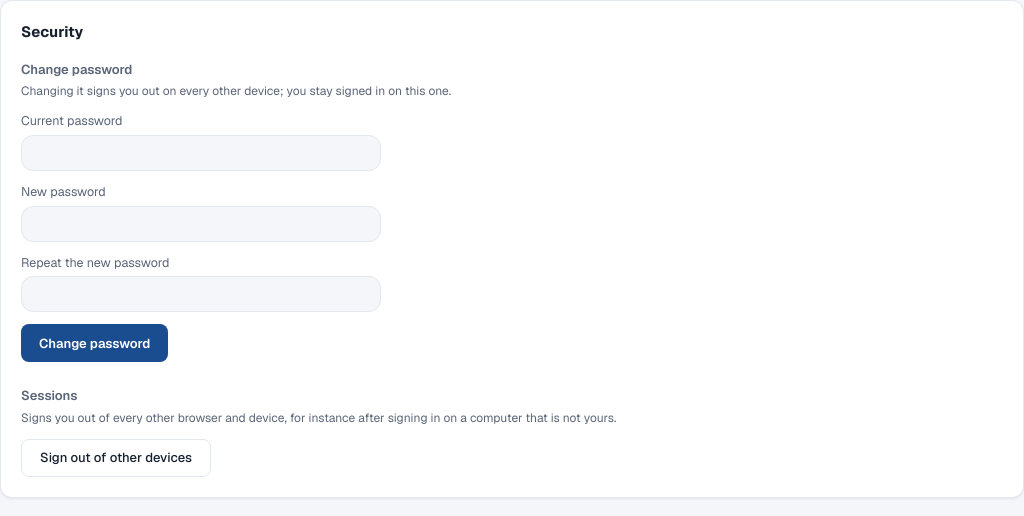
Scenario: changing the password › sends the current and new password, then clears the form
The width and height of the screenshot is (1024, 516).
In the password field labelled "Current password": [201, 153] box [21,135,381,171], type "old-password"
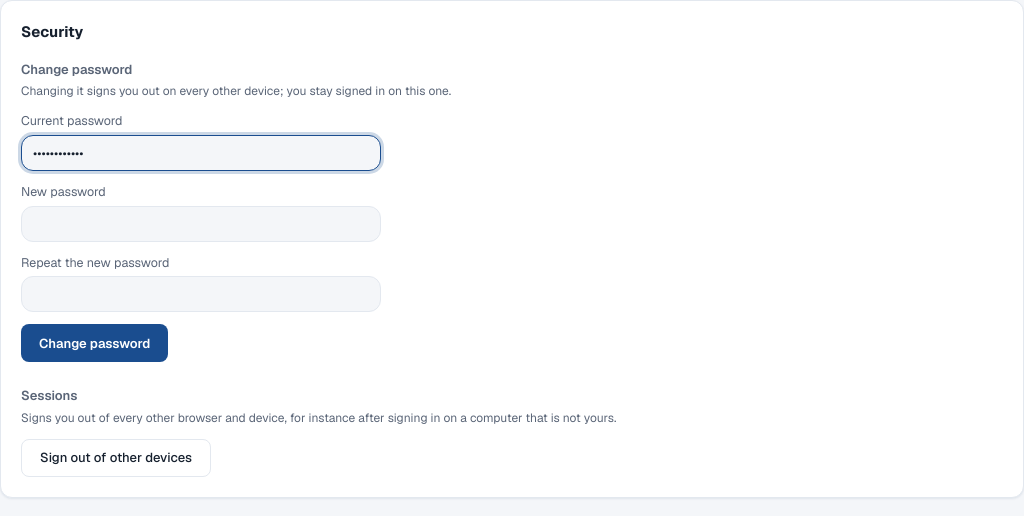
In the password field labelled "New password": [201, 224] box [21,206,381,242], type "a-new-password"
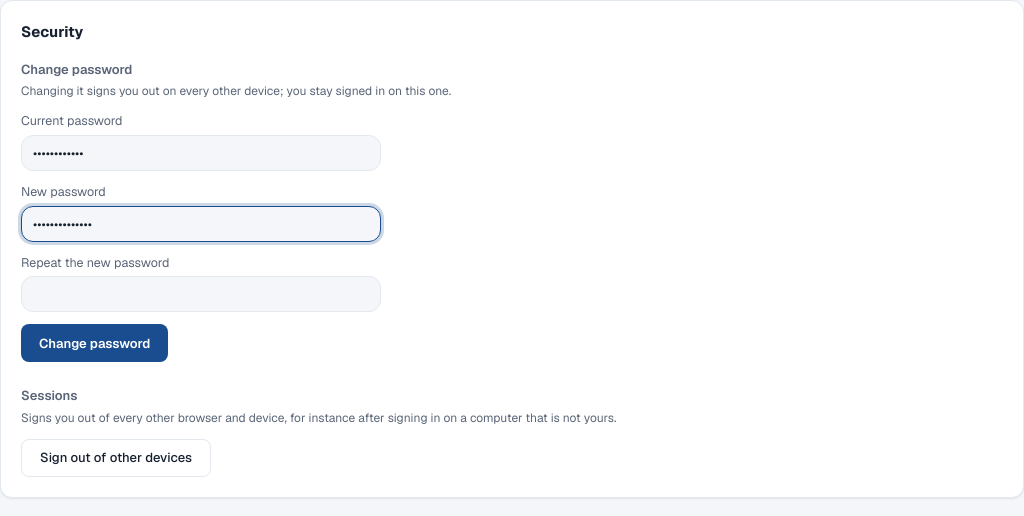
In the password field labelled "Repeat the new password": [201, 294] box [21,276,381,312], type "a-new-password"
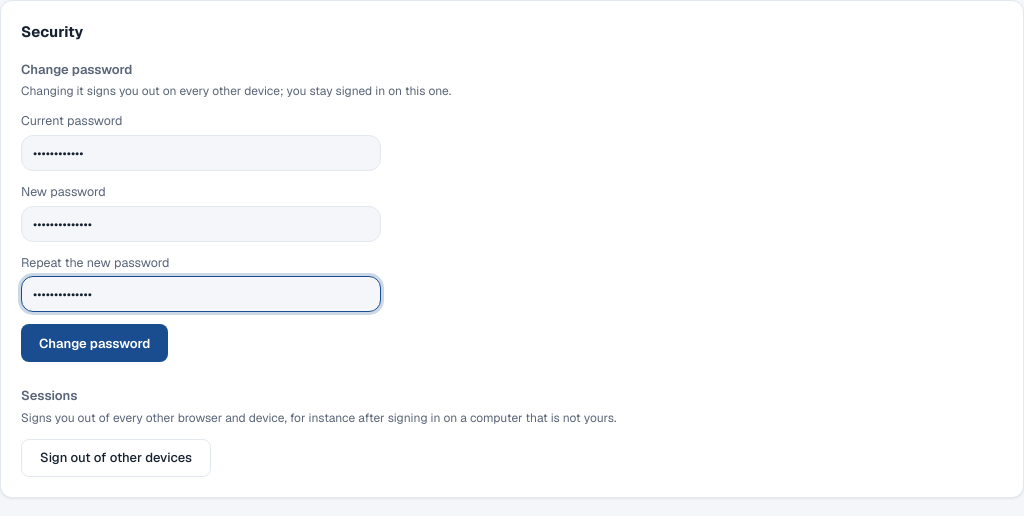
Click the button "Change password": [95, 343] box [21,324,168,362]
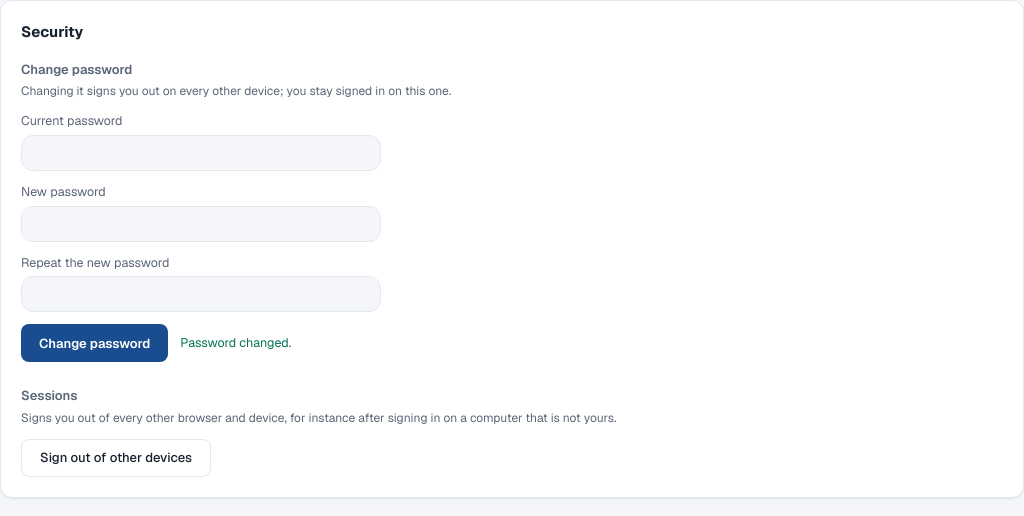
Check: the text "Password changed." is shown, box [180,334,291,353]
Check: the password field labelled "Current password" is empty, box [21,135,381,171]
Check: the password field labelled "New password" is empty, box [21,206,381,242]
